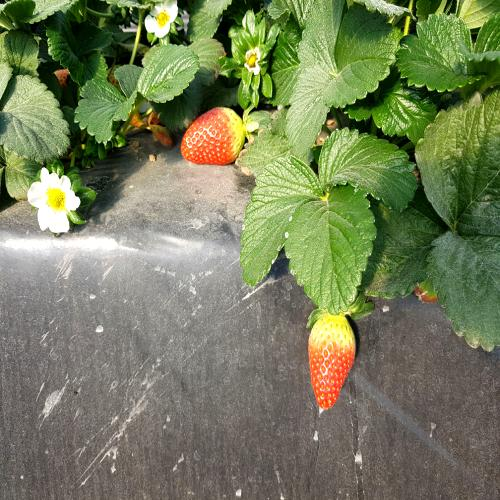partially-ripe: (305, 297, 360, 422)
ripe: (183, 89, 247, 177)
